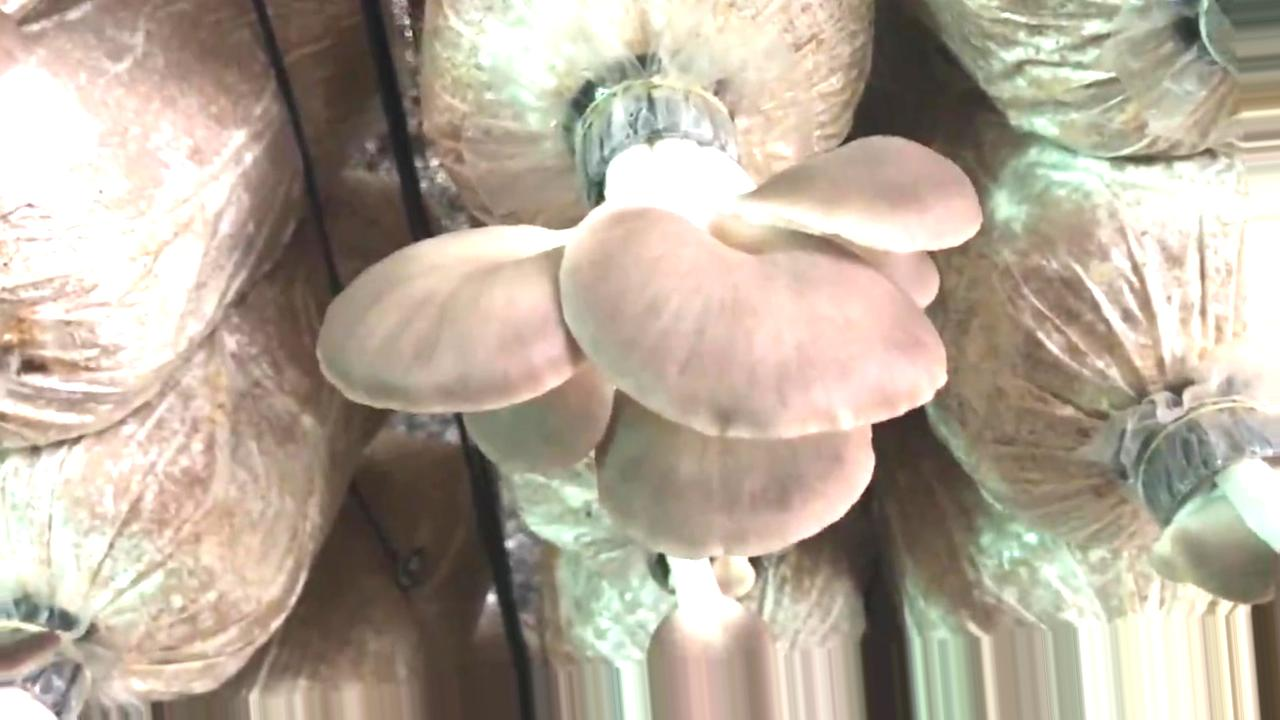nam: (322, 83, 981, 555), (1153, 419, 1280, 601), (648, 555, 777, 720)
